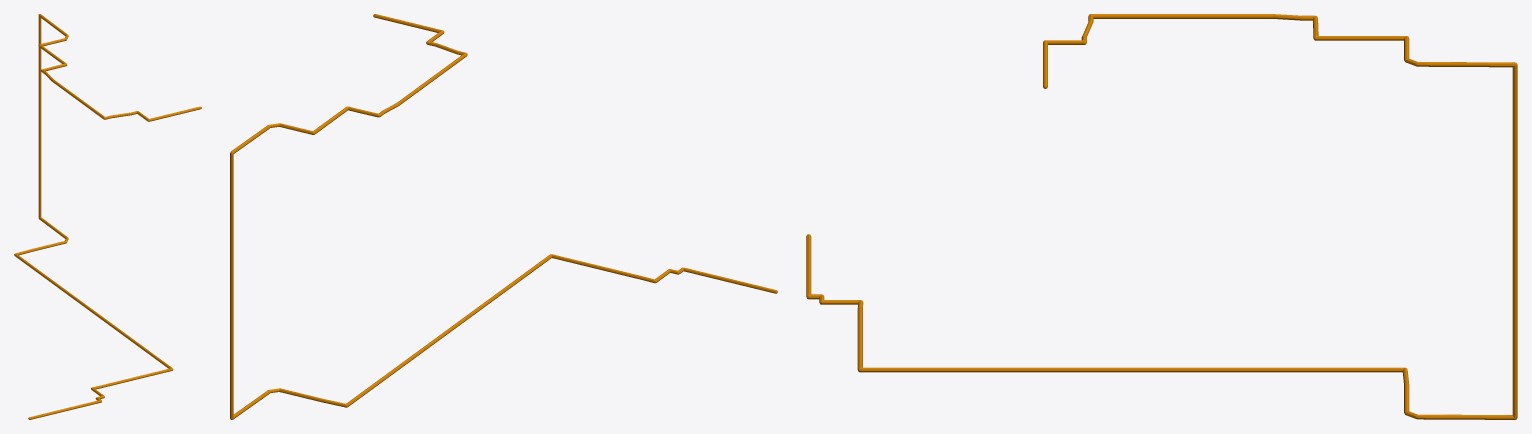
3 views of the same model, side by side, from view 1: azimuth 30°, elevation 25°; view 2: azimuth 150°, elevation 25°; view 3: azimuth 270°, elevation 25° (orthographic). The views are drawn at different scales.
Size of the model in its own units: 1868 by 1520 by 2742.
